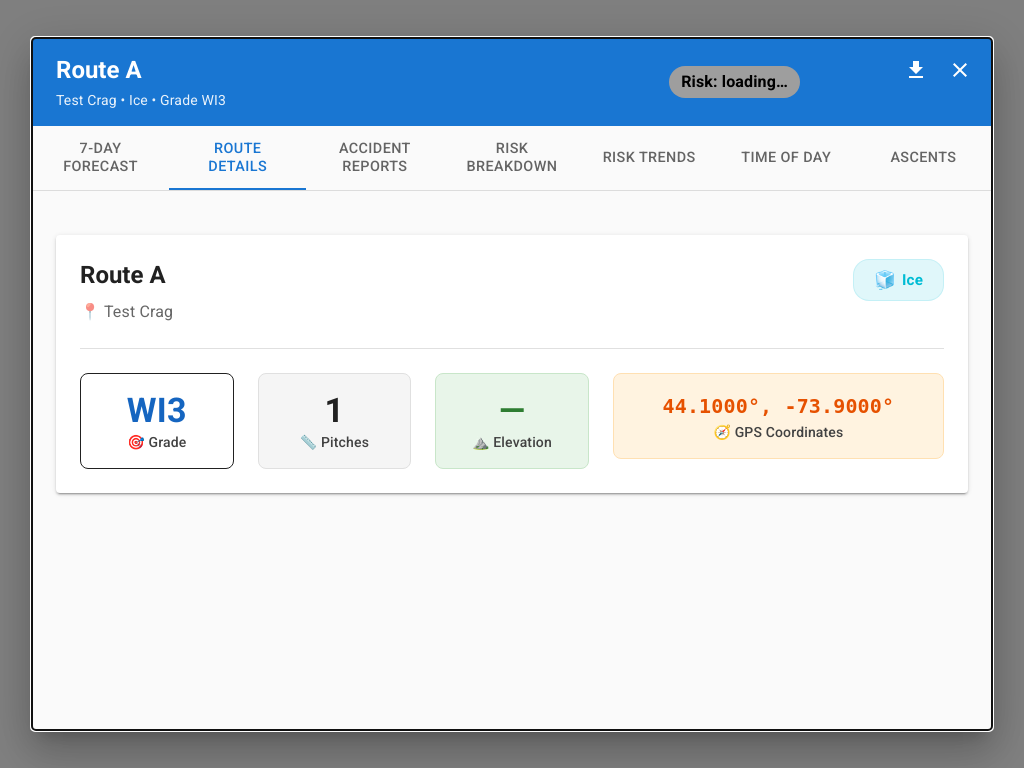
RouteAnalyticsModal accident and ascent figures › shows plain counts in neutral chips, never a rate or a green zero
Click the tab "Ascents". click: {"x": 923, "y": 158}
box: top-left (855, 126), bottom-right (992, 190)
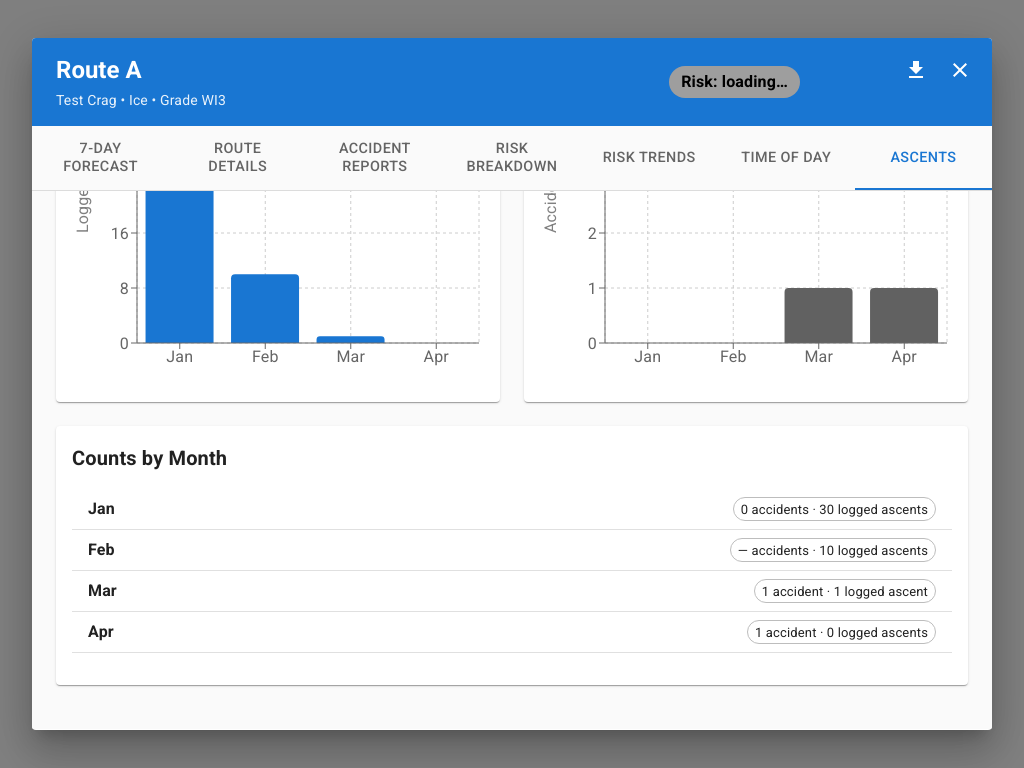
Result: the heading "Counts by Month" is shown at top-left (72, 446), bottom-right (227, 470)
